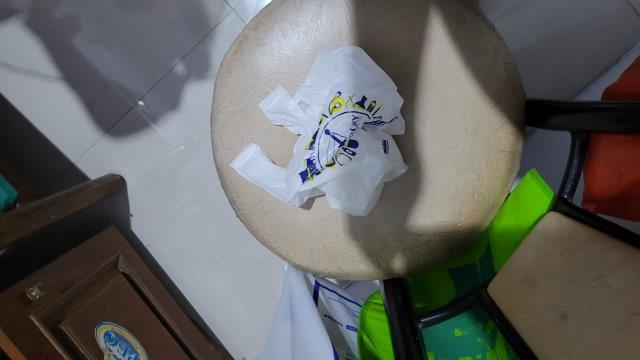plastik: (230, 46, 408, 216)
